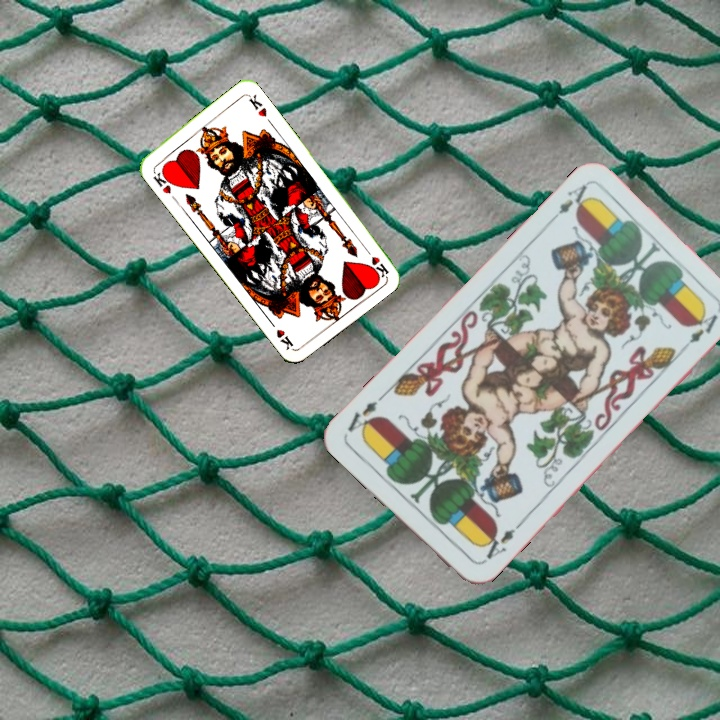EA: (545, 180, 594, 227), (476, 519, 523, 566)
HK: (359, 242, 391, 279), (149, 165, 177, 196)
